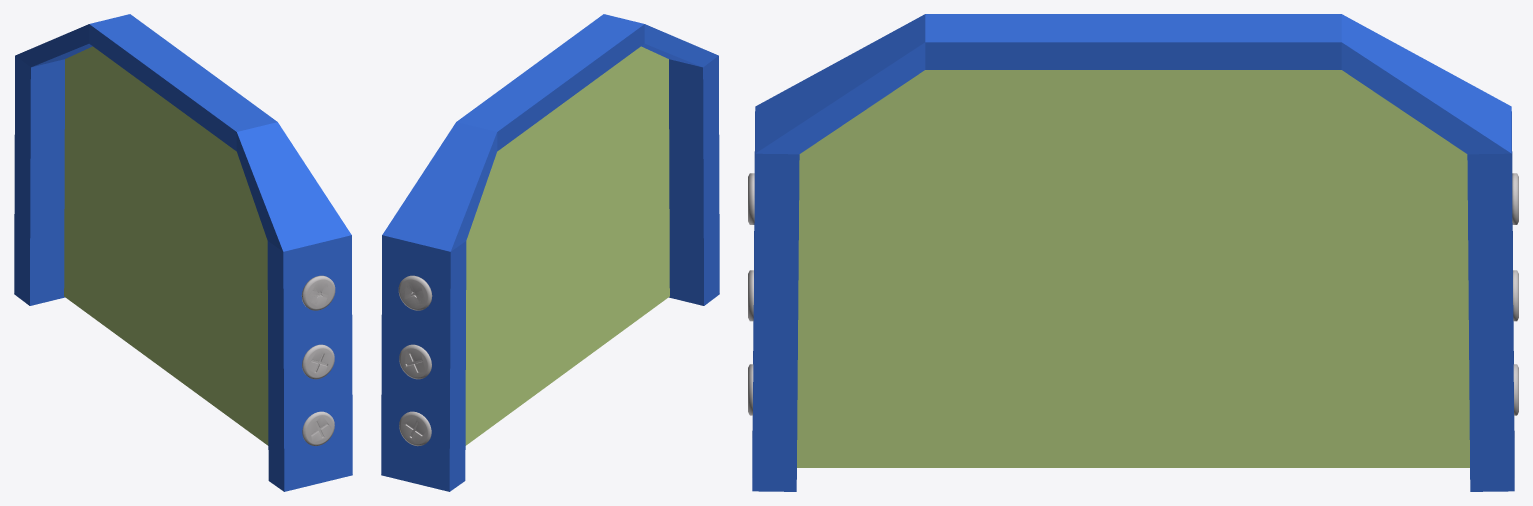
The model's file is trampoline.fbx.
3 renders of one model, left to right at view 1: azimuth 30°, elevation 25°; view 2: azimuth 150°, elevation 25°; view 3: azimuth 270°, elevation 25°, orthographic. The views are drawn at different scales.
Parts seen in each view (by area): view 1: Cube.002, Cube.001, Cylinder.006, Cylinder.004, Cylinder.005; view 2: Cube.002, Cube.001, Cylinder.006, Cylinder.004, Cylinder.005; view 3: Cube.002, Cube.001.
Boxes of the visible parts, bbox=[...] form: Cube.002: bbox=[64, 46, 268, 445]; Cube.001: bbox=[14, 14, 352, 491]; Cylinder.006: bbox=[301, 275, 335, 310]; Cylinder.004: bbox=[302, 344, 334, 379]; Cylinder.005: bbox=[302, 411, 334, 446]; Cube.002: bbox=[465, 46, 669, 445]; Cube.001: bbox=[381, 14, 719, 491]; Cylinder.006: bbox=[398, 275, 432, 310]; Cylinder.004: bbox=[399, 344, 431, 379]; Cylinder.005: bbox=[399, 411, 431, 446]; Cube.002: bbox=[797, 70, 1469, 467]; Cube.001: bbox=[752, 14, 1514, 491].
Bounding box in the file's own units: 262 × 1140 × 1808.
